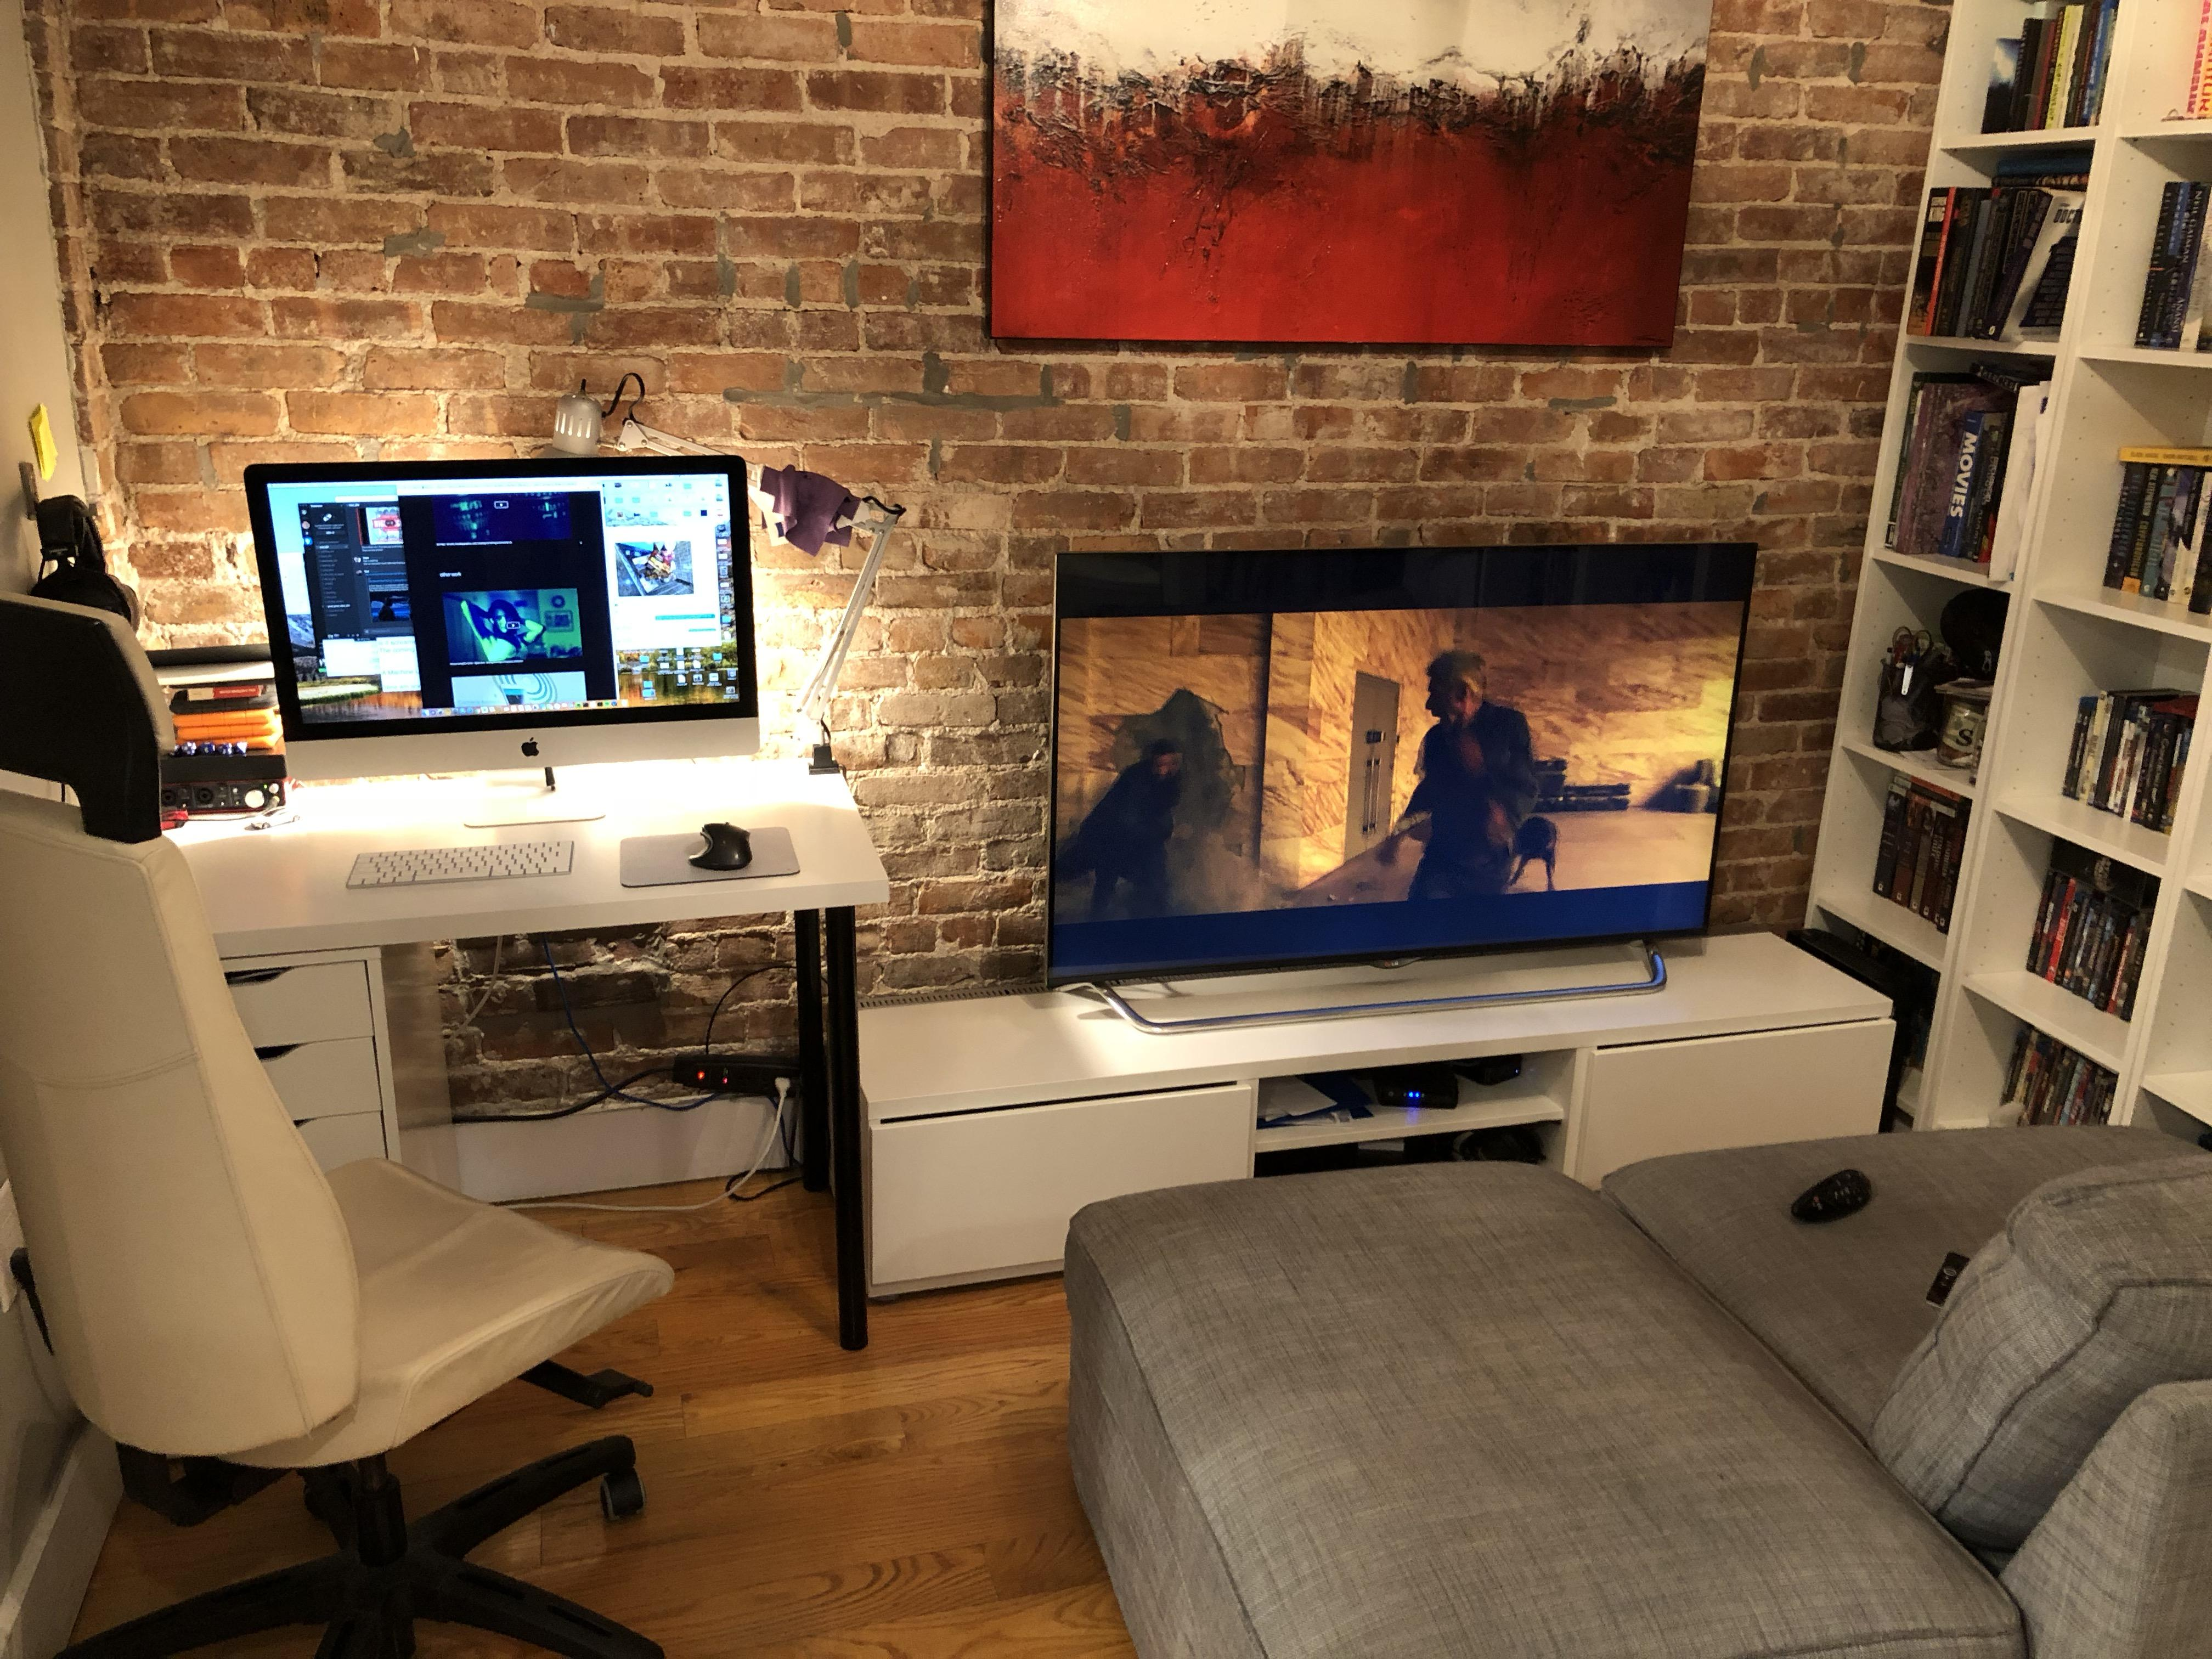Chair (Generic): (0, 561, 725, 1657)
Desk (Generic): (28, 777, 881, 936)
External Sound Card (Pre-amplifier): (117, 784, 296, 812)
Headphones: (14, 484, 152, 648)
Keyboard (Generic): (336, 836, 585, 887)
Lamp (Desk): (531, 378, 853, 775)
Monitor (iMac): (246, 464, 765, 763)
Mouse (Gaming): (686, 819, 770, 875)
Mousepad (Generic): (615, 833, 799, 875)
Power Strip: (664, 1049, 806, 1098)
Storage Drawer: (94, 948, 413, 1239)
